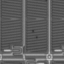dust: (35, 35, 39, 38), (31, 29, 34, 32)
